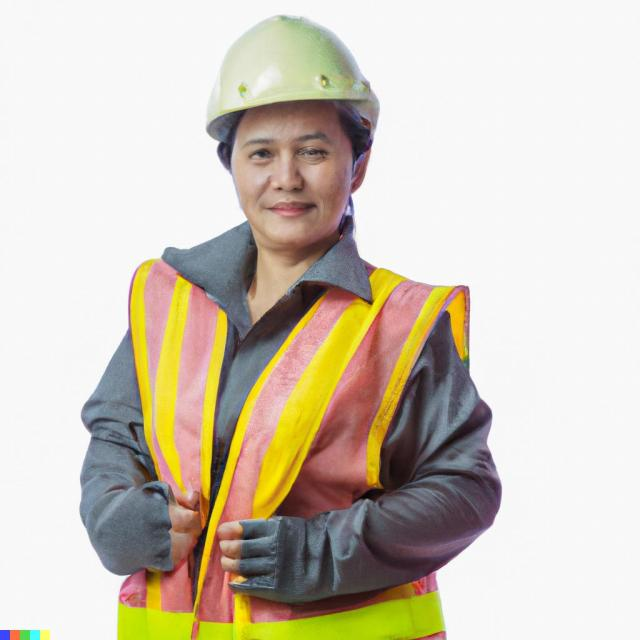Reflective-Jacket: (114, 246, 470, 640)
Safety-Helmet: (198, 10, 384, 138)
